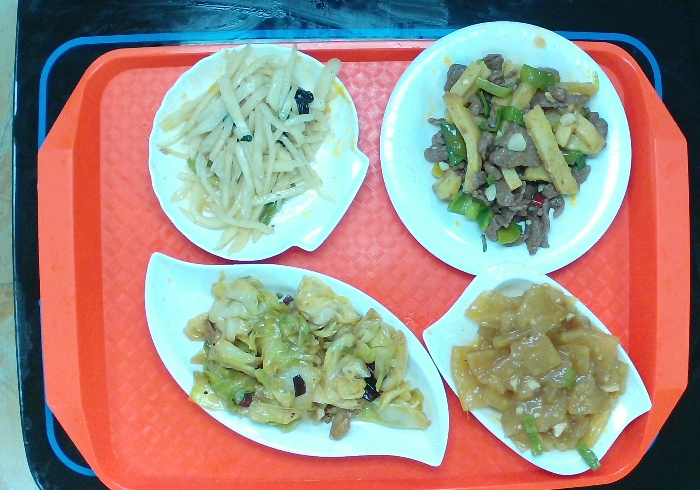RJxy-Bei_Ke_Wan: (149, 43, 371, 264)
RJxy-Jian_Jiao_Fang_Die: (419, 258, 655, 479)
RJxy-Jian_Jiao_Pan: (140, 248, 457, 470)
RJxy-Yuan_Pan: (377, 13, 634, 281)
